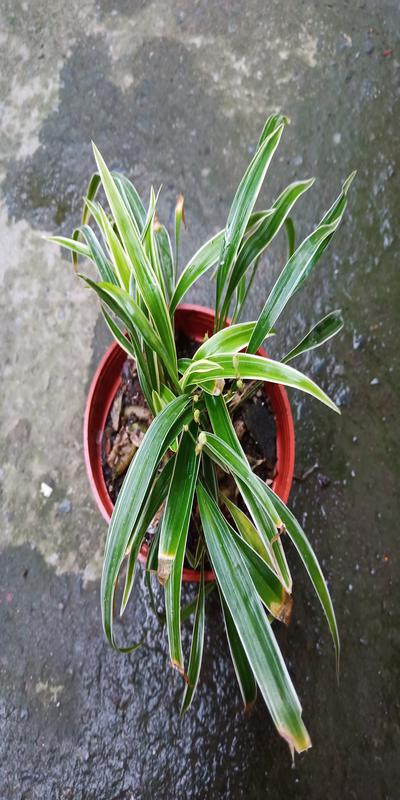Yellow and green leaf: (36, 187, 355, 644)
